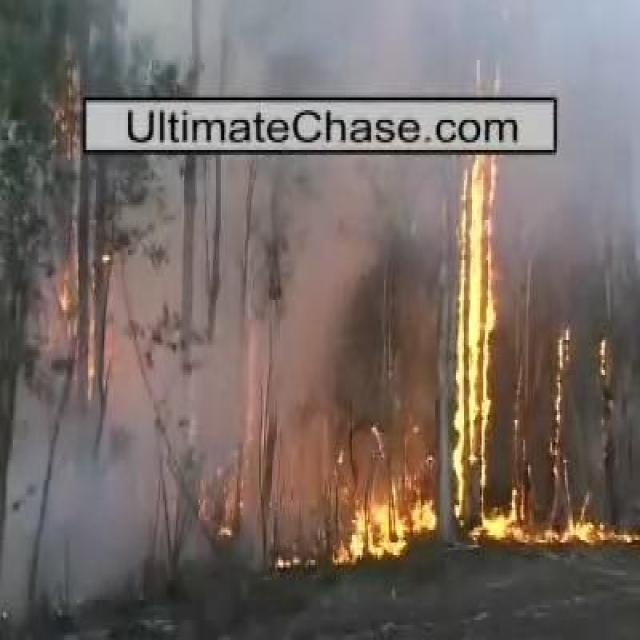Fire: (458, 159, 498, 516), (476, 498, 622, 544), (350, 495, 436, 555)
